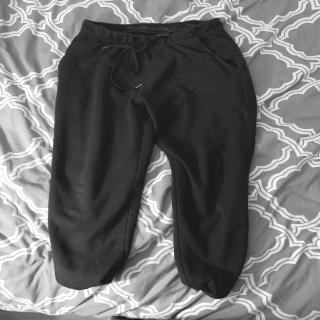Navy Sweatpants: (30, 13, 264, 300)
